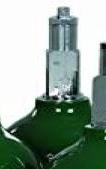cylinder: (0, 1, 106, 169)
